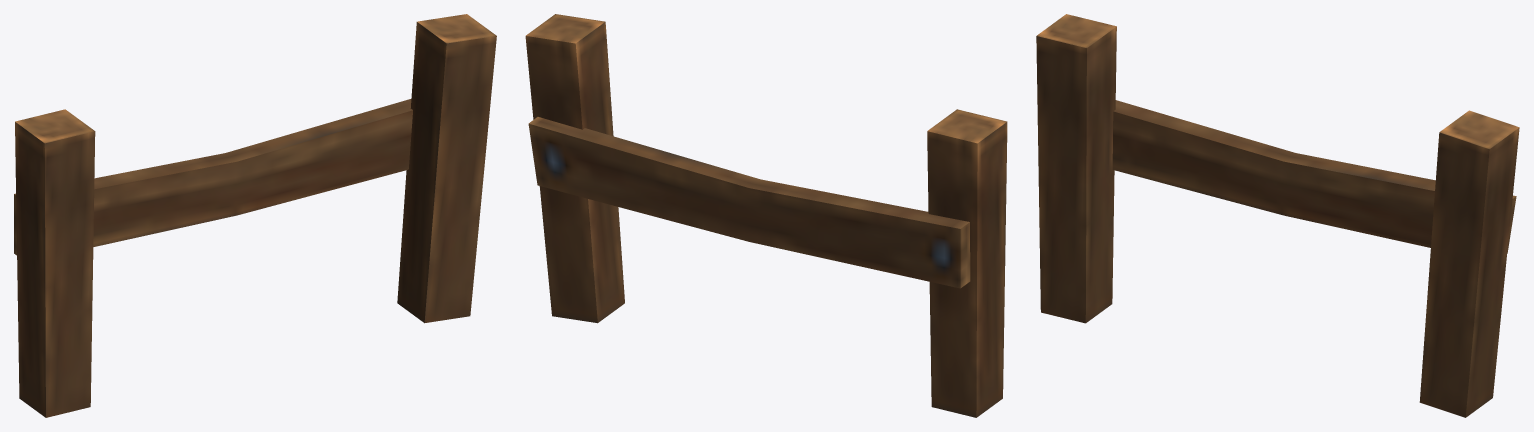
The model's file is b_fence_2.FBX.
The picture shows the model from 3 angles, left to right: view 1: azimuth 30°, elevation 25°; view 2: azimuth 150°, elevation 25°; view 3: azimuth 330°, elevation 25°; orthographic projection.
Visible parts, largest first — view 1: Box008; view 2: Box008; view 3: Box008.
Boxes of the visible parts, x1,y1,x2,y2 form: Box008: (14,14,496,417); Box008: (525,14,1007,417); Box008: (1036,14,1519,417).
Bounding box in the file's own units: 40.46 × 6.03 × 23.92.
